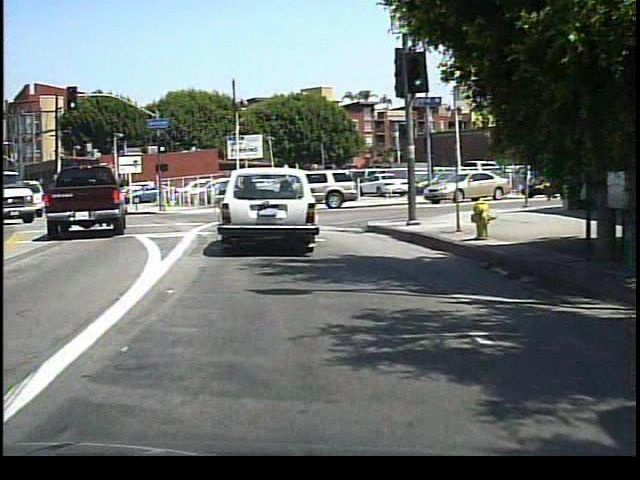person: (404, 164, 422, 204)
